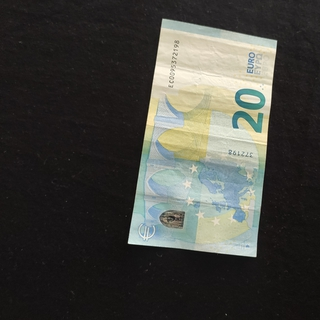20EUROBack: (127, 18, 277, 257)
